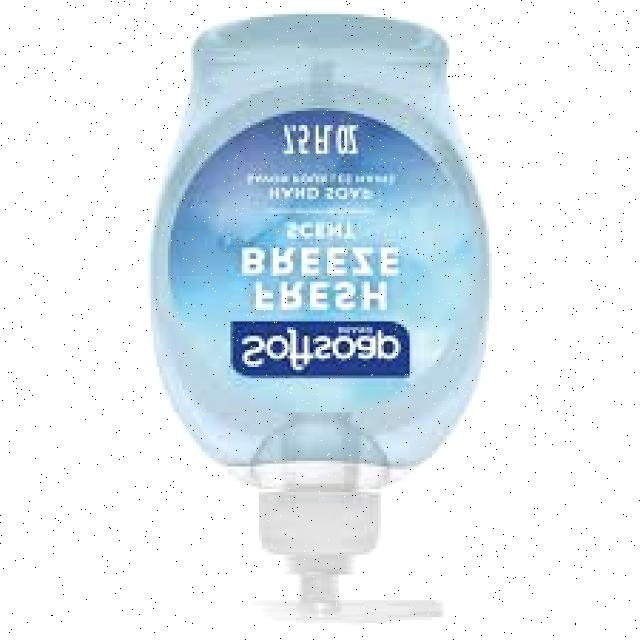liquid soap: (136, 8, 498, 632)
